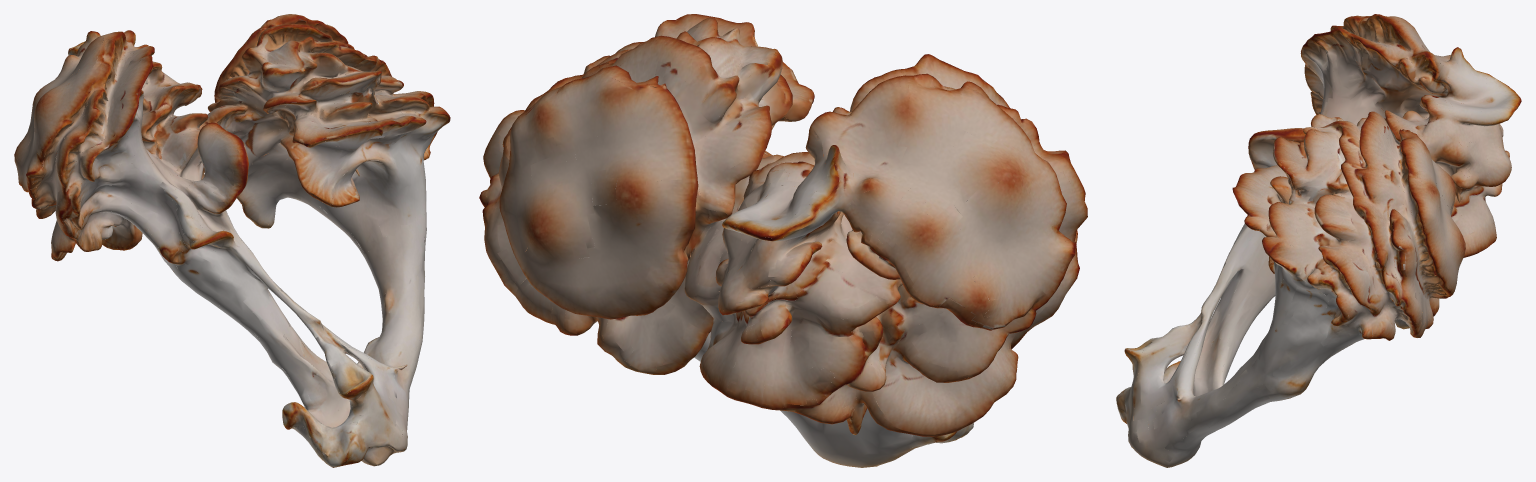
File: category-1.glb
3 views of the same model, side by side, from view 1: azimuth 30°, elevation 25°; view 2: azimuth 150°, elevation 25°; view 3: azimuth 270°, elevation 25° (orthographic). The views are drawn at different scales.
Parts seen in each view (by area): view 1: tripo_node_b78e1853; view 2: tripo_node_b78e1853; view 3: tripo_node_b78e1853.
Part boxes in pixels (x1,y1,x2,y2): tripo_node_b78e1853: (14,14,450,467); tripo_node_b78e1853: (479,14,1087,467); tripo_node_b78e1853: (1116,14,1521,467).
Bounding box in the file's own units: 0.9678 × 0.8572 × 0.8515.
Materials: 1 (1 with a texture image).
